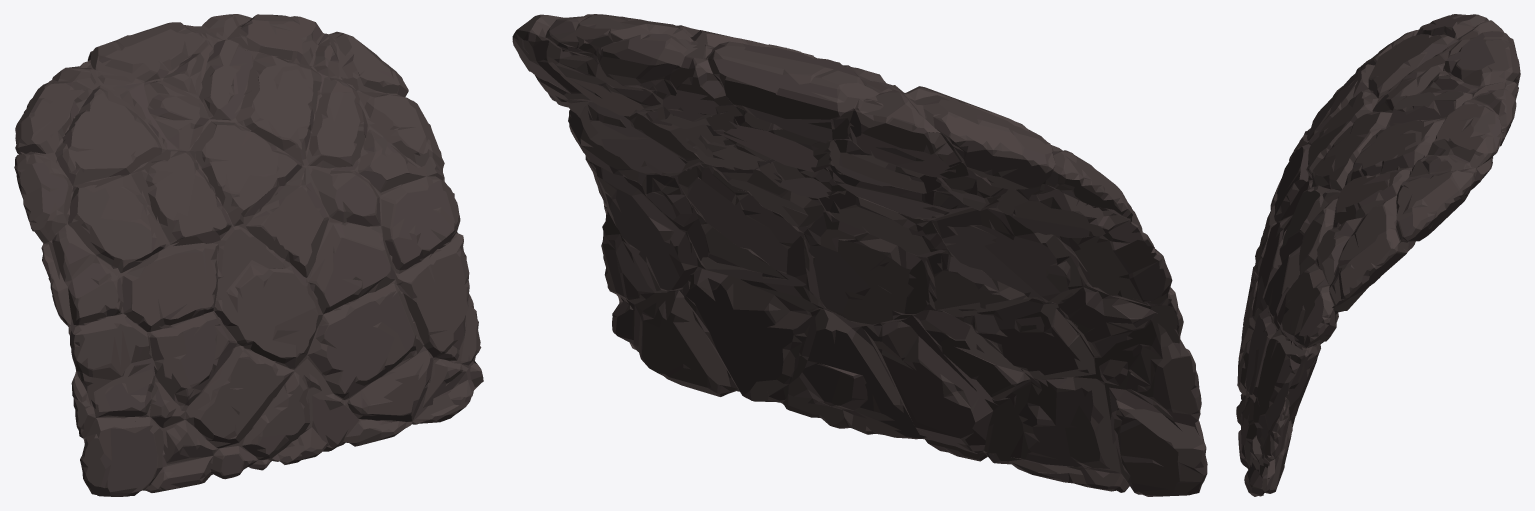
File: DecoForDoor.fbx
3 views of the same model, side by side, from view 1: azimuth 30°, elevation 25°; view 2: azimuth 150°, elevation 25°; view 3: azimuth 270°, elevation 25° (orthographic). The views are drawn at different scales.
Visible parts, largest first — view 1: Wand02.006; view 2: Wand02.006; view 3: Wand02.006.
Boxes of the visible parts, x1=… form: Wand02.006: x1=14, y1=14, x2=483, y2=496; Wand02.006: x1=512, y1=14, x2=1207, y2=496; Wand02.006: x1=1236, y1=14, x2=1520, y2=496.
Size of the model in its own units: 4.49 by 2.67 by 3.68.
